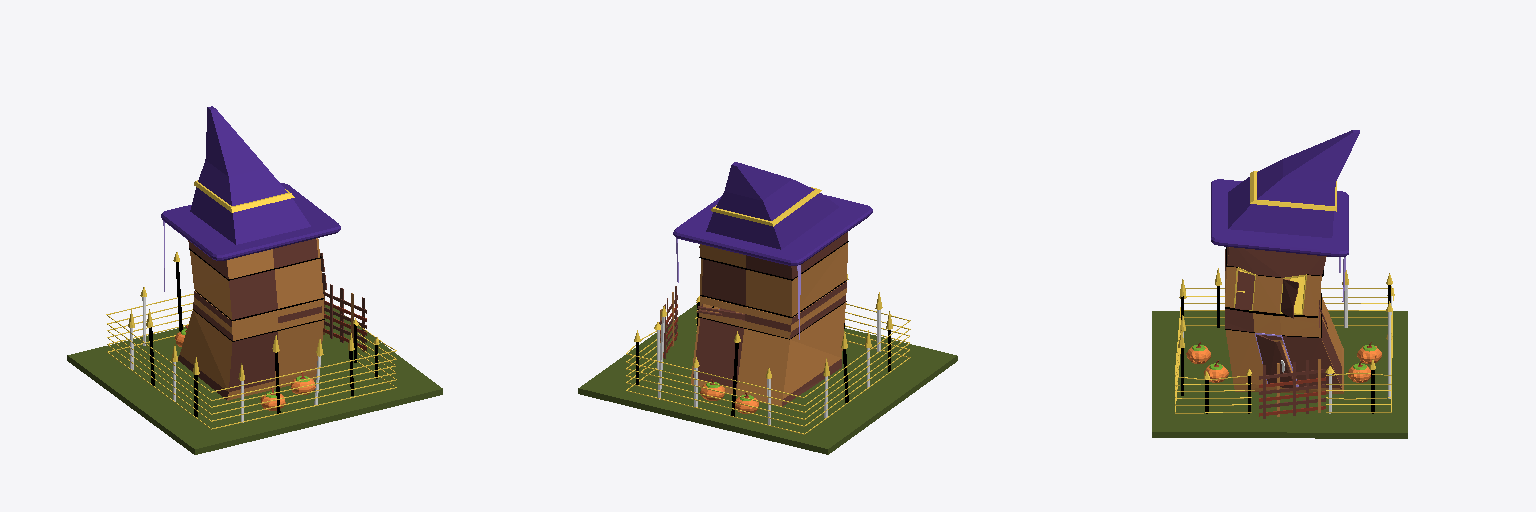
The picture shows the model from 3 angles: view 1: azimuth 30°, elevation 25°; view 2: azimuth 150°, elevation 25°; view 3: azimuth 270°, elevation 25°; orthographic projection.
Parts seen in each view (by area): view 1: Cube; view 2: Cube; view 3: Cube.
Part boxes in pixels (x1,y1,x2,y2): Cube: (67, 106, 442, 454); Cube: (578, 162, 957, 454); Cube: (1152, 130, 1407, 438).
Size of the model in its own units: 4.43 by 4.11 by 3.92.
1 materials, 1 textured.